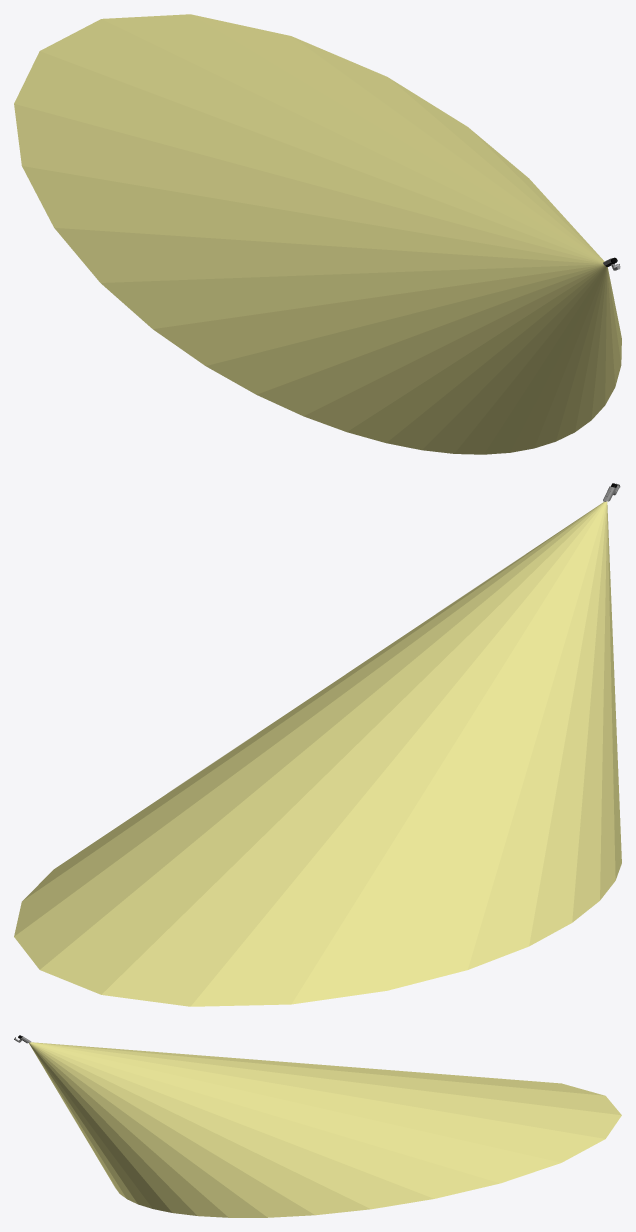
Rendered from cctvlight.glb.
3 views of the same model, one above another, from view 1: azimuth 30°, elevation 25°; view 2: azimuth 150°, elevation 25°; view 3: azimuth 270°, elevation 25° (orthographic). The views are drawn at different scales.
Visible parts, largest first — view 1: Cylinder.003__0; view 2: Cylinder.003__0; view 3: Cylinder.003__0.
Part boxes in pixels (x1,y1,x2,y2): Cylinder.003__0: (14, 14, 621, 454); Cylinder.003__0: (14, 483, 621, 1006); Cylinder.003__0: (14, 1035, 621, 1217).
Size of the model in its own units: 21.63 by 12 by 45.26.
Materials: 2 (1 with a texture image).
